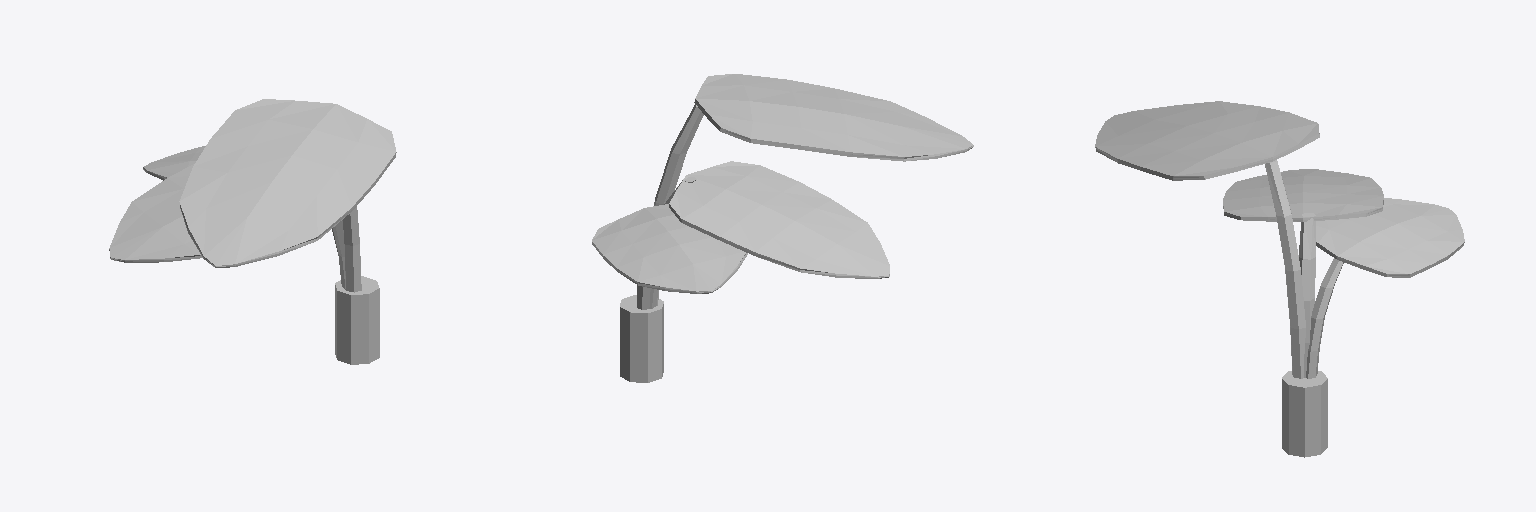
File: Hojas2.obj
The picture shows the model from 3 angles: view 1: azimuth 30°, elevation 25°; view 2: azimuth 150°, elevation 25°; view 3: azimuth 270°, elevation 25°; orthographic projection.
Parts seen in each view (by area): view 1: Cube.002_Cube.003, Cube_Cube.001, Cylinder, Cylinder.003, Cube.001_Cube.002; view 2: Cube_Cube.001, Cube.002_Cube.003, Cube.001_Cube.002, Cylinder, Cylinder.003; view 3: Cube.002_Cube.003, Cube.001_Cube.002, Cube_Cube.001, Cylinder, Cylinder.003, Cylinder.001, Cylinder.002.
Boxes of the visible parts, box(x1,y1,x2,y2) form: Cube.002_Cube.003: box(179, 99, 396, 267); Cube_Cube.001: box(109, 164, 202, 262); Cylinder: box(335, 276, 379, 364); Cylinder.003: box(343, 207, 361, 292); Cube.001_Cube.002: box(143, 146, 205, 180); Cube_Cube.001: box(669, 161, 889, 278); Cube.002_Cube.003: box(694, 74, 973, 161); Cube.001_Cube.002: box(592, 204, 747, 293); Cylinder: box(620, 295, 663, 382); Cylinder.003: box(654, 104, 703, 305); Cube.002_Cube.003: box(1095, 101, 1319, 180); Cube.001_Cube.002: box(1316, 198, 1464, 277); Cube_Cube.001: box(1223, 169, 1383, 221); Cylinder: box(1282, 371, 1327, 457); Cylinder.003: box(1265, 160, 1305, 378); Cylinder.001: box(1299, 213, 1315, 377); Cylinder.002: box(1306, 258, 1343, 378).
Bounding box in the file's own units: 4.01 × 3.91 × 4.81.